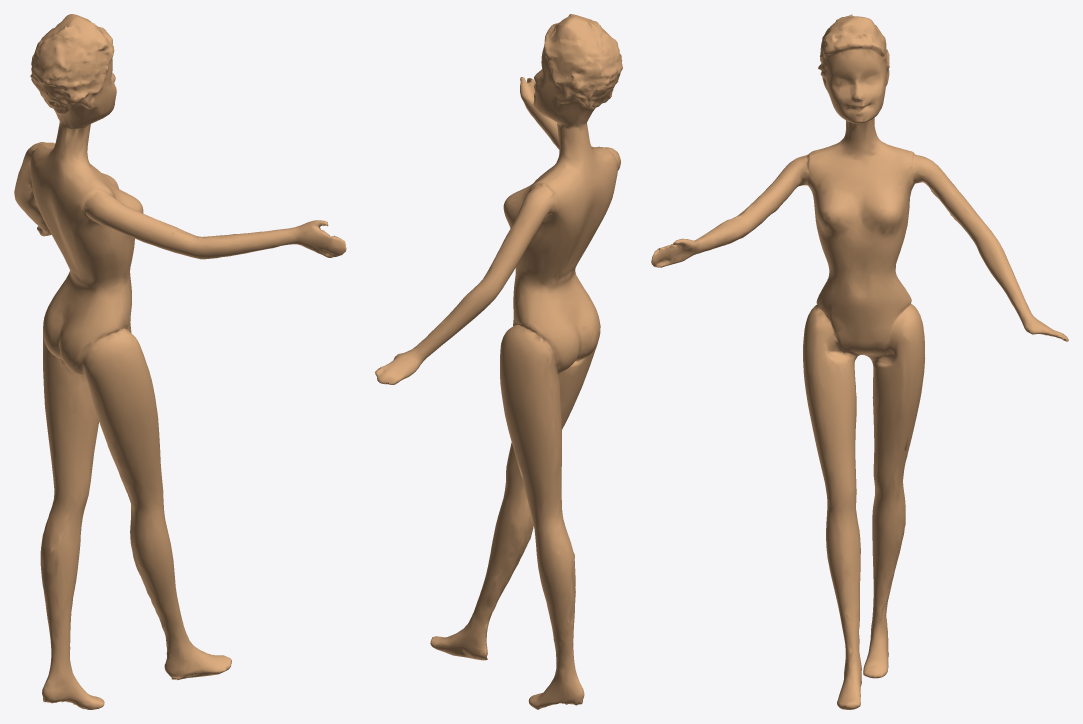
Rendered from Barbie.fbx.
The picture shows the model from 3 angles, left to right: view 1: azimuth 30°, elevation 25°; view 2: azimuth 150°, elevation 25°; view 3: azimuth 270°, elevation 25°; orthographic projection. The views are drawn at different scales.
Visible parts, largest first — view 1: barbie; view 2: barbie; view 3: barbie.
Part boxes in pixels (x1,y1,x2,y2): barbie: (14,14,346,709); barbie: (375,14,622,709); barbie: (651,14,1068,709).
Size of the model in its own units: 1242 by 4164 by 2428.
